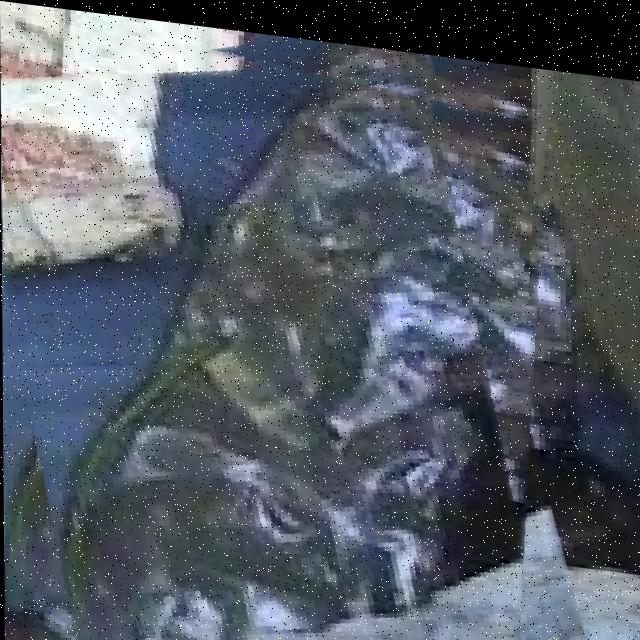plasticbottle: (1, 0, 550, 640)
